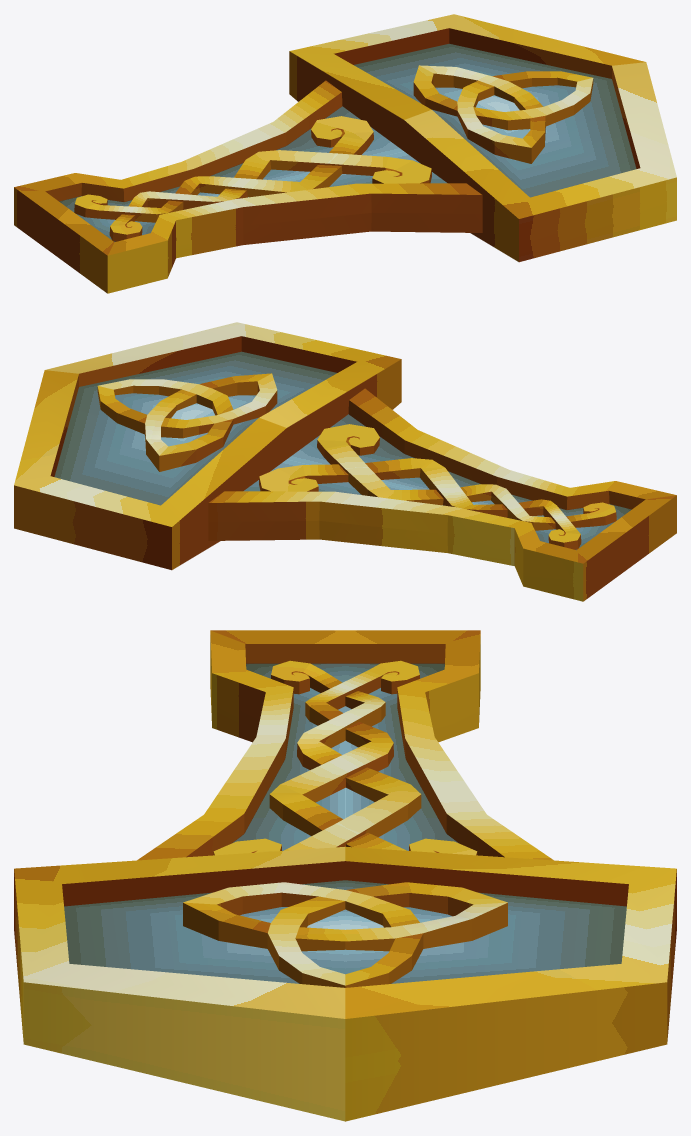
File: copenhagenBoard01.glb
3 renders of one model, top to bottom at view 1: azimuth 30°, elevation 25°; view 2: azimuth 150°, elevation 25°; view 3: azimuth 270°, elevation 25°, orthographic. The views are drawn at different scales.
Visible parts, largest first — view 1: copenhagenBoard01; view 2: copenhagenBoard01; view 3: copenhagenBoard01.
Part boxes in pixels (x1,y1,x2,y2): copenhagenBoard01: (14,14,676,293); copenhagenBoard01: (14,322,676,601); copenhagenBoard01: (14,630,676,1121).
Size of the model in its own units: 10.46 by 1.37 by 7.1.
Materials: 1 (1 with a texture image).
